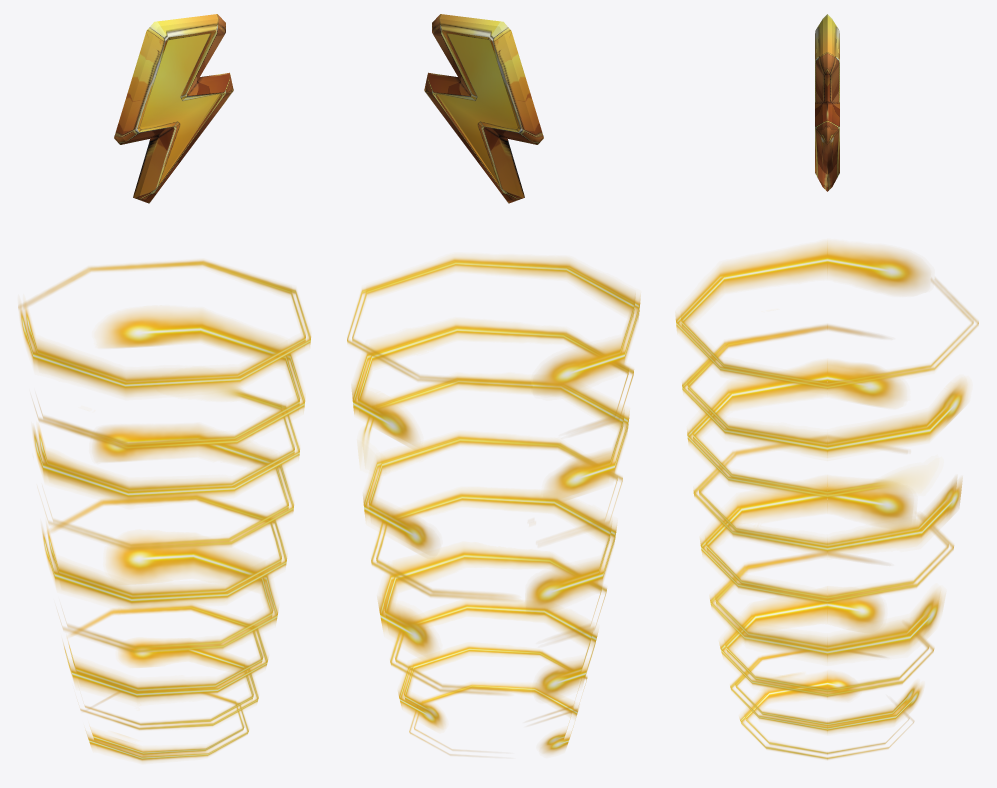
File: powerup_speed.glb
3 renders of one model, left to right at view 1: azimuth 30°, elevation 25°; view 2: azimuth 150°, elevation 25°; view 3: azimuth 270°, elevation 25°, orthographic.
Visible parts, largest first — view 1: Lightray 1, Lightray 2, Spped; view 2: Lightray 1, Lightray 2, Spped; view 3: Lightray 1, Lightray 2, Spped.
Boxes of the visible parts, left/top/right/bottom form: Lightray 1: left=18, top=260, right=310, bottom=761; Lightray 2: left=34, top=310, right=305, bottom=729; Spped: left=114, top=14, right=233, bottom=203; Lightray 1: left=347, top=256, right=640, bottom=755; Lightray 2: left=352, top=321, right=633, bottom=728; Spped: left=424, top=14, right=543, bottom=203; Lightray 1: left=675, top=241, right=978, bottom=759; Lightray 2: left=682, top=324, right=967, bottom=733; Spped: left=815, top=14, right=839, bottom=191.
Bounding box in the file's own units: 1.01 × 2.6 × 1.01.
Materials: 2 (2 with a texture image).
